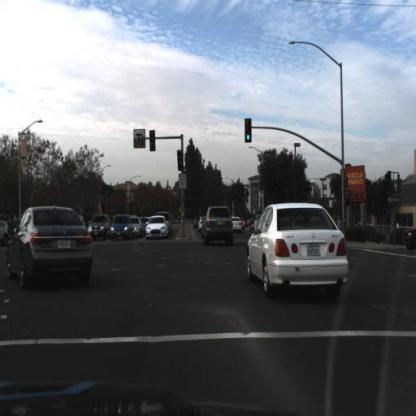car: (251, 202, 352, 300), (11, 202, 96, 292), (203, 206, 237, 249), (111, 212, 136, 245), (91, 209, 113, 245), (147, 215, 169, 241), (251, 213, 266, 239), (131, 216, 144, 243), (231, 209, 242, 239), (226, 206, 234, 235), (199, 209, 207, 233), (194, 212, 202, 233)
pedestrian: (335, 209, 345, 236)
trafficLight-Green: (242, 111, 255, 151), (342, 171, 351, 199), (177, 150, 185, 171), (362, 173, 366, 193)
trafficLight-GreenLeft: (175, 144, 187, 176), (149, 127, 159, 154)
